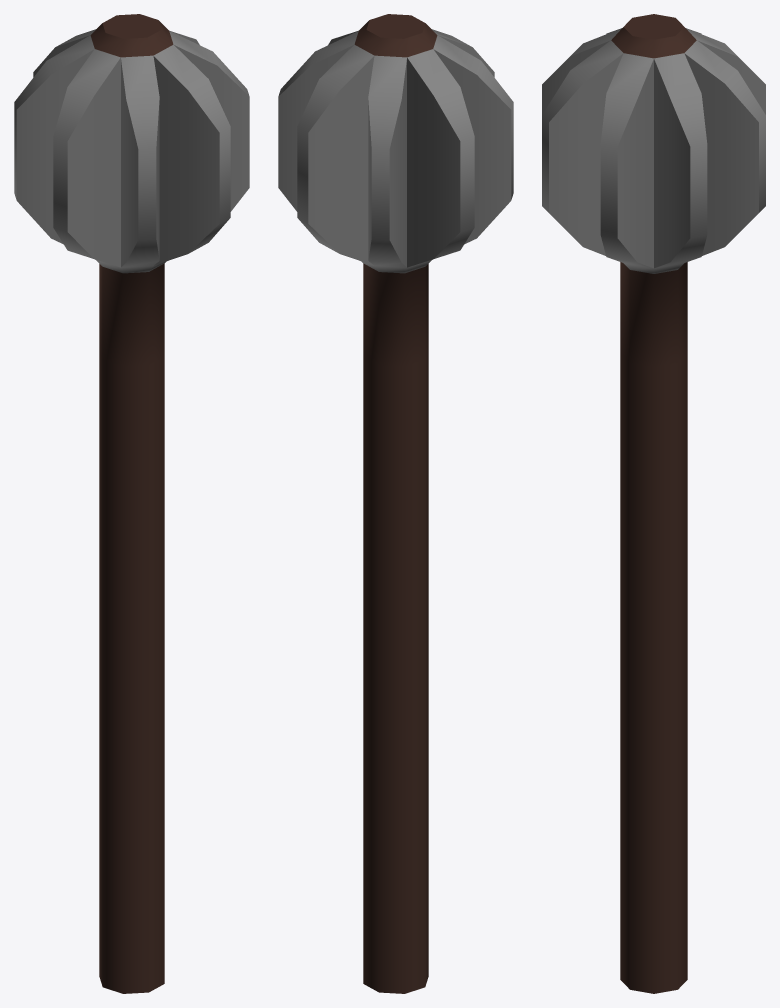
The model's file is 메이스.fbx.
3 renders of one model, left to right at view 1: azimuth 30°, elevation 25°; view 2: azimuth 150°, elevation 25°; view 3: azimuth 270°, elevation 25°, orthographic.
Visible parts, largest first — view 1: Cylinder007; view 2: Cylinder007; view 3: Cylinder007.
Part boxes in pixels (<box>): Cylinder007: <box>14,14,249,993</box>; Cylinder007: <box>278,14,513,993</box>; Cylinder007: <box>542,14,765,993</box>.
Size of the model in its own units: 29.29 by 29.29 by 138.
